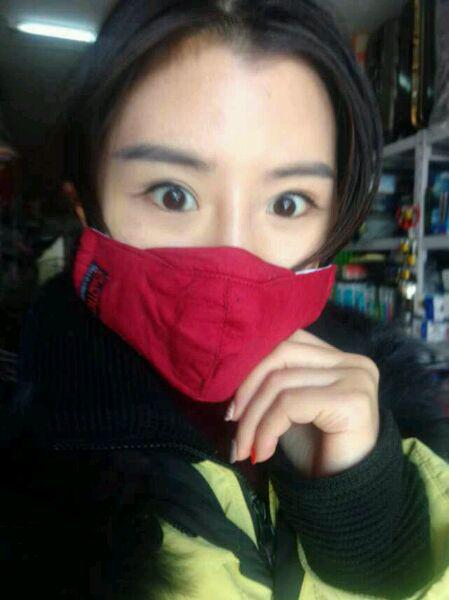OK: (110, 121, 341, 353)
